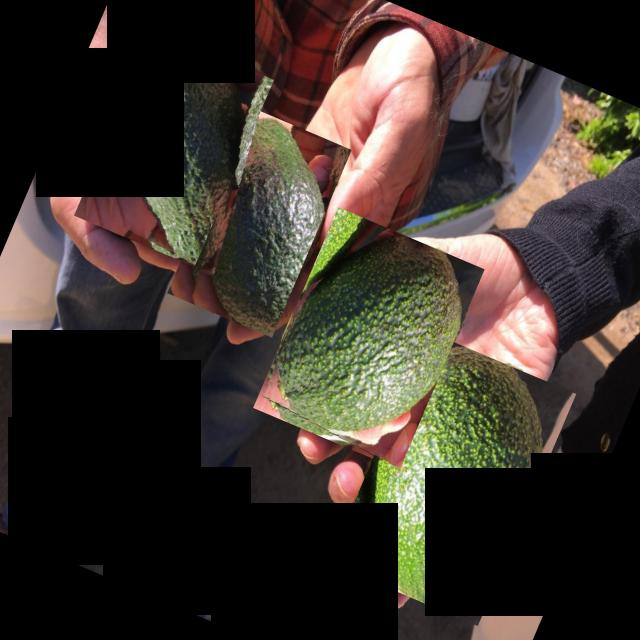avocado: (328, 330, 576, 626), (252, 207, 484, 470), (74, 28, 274, 266), (166, 105, 351, 337)
